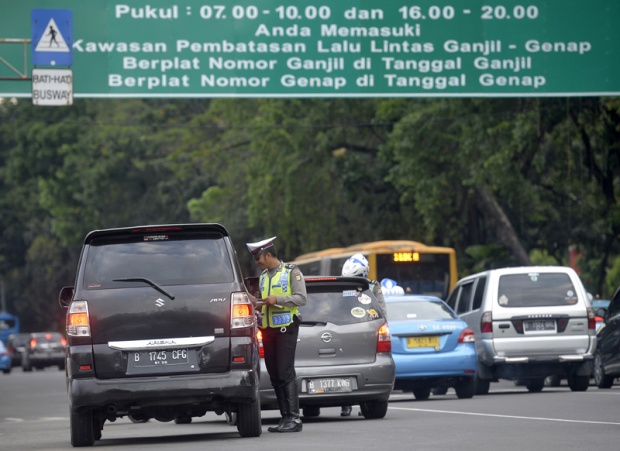plate: (136, 352, 186, 364), (307, 380, 349, 393), (406, 336, 438, 348), (526, 322, 555, 330)
